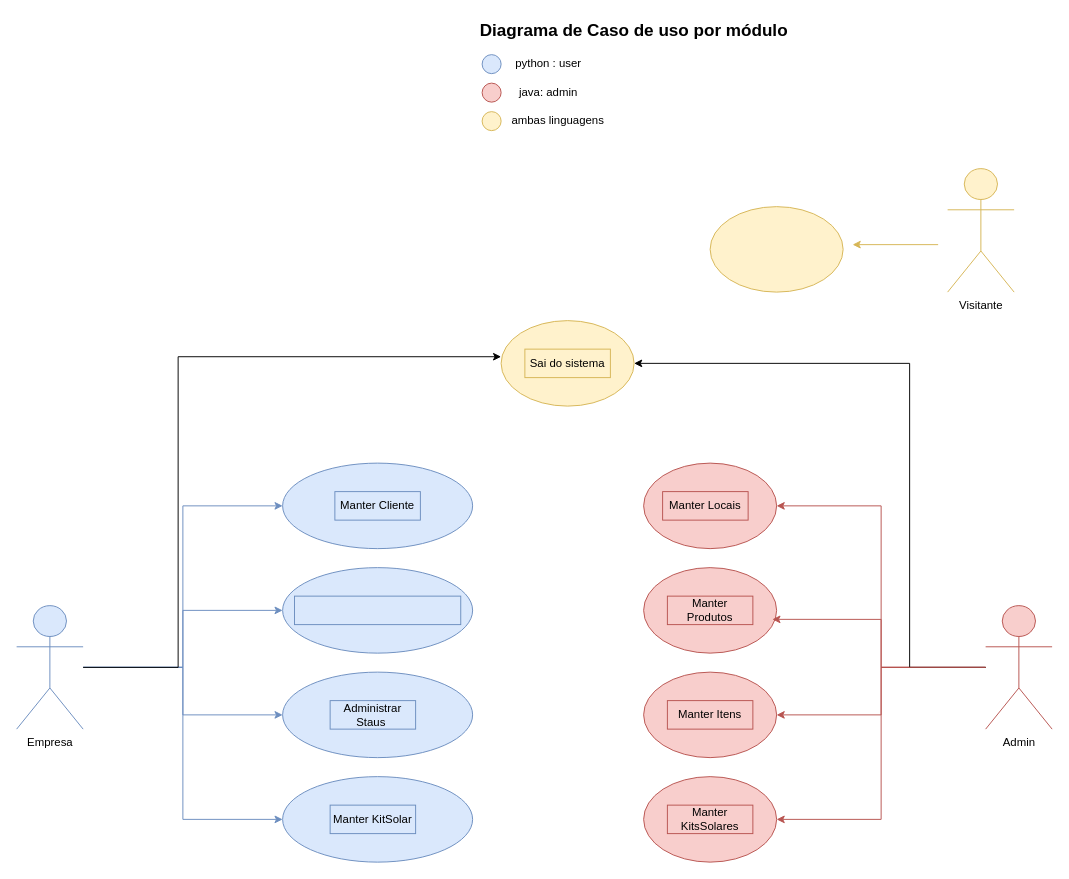
Some shapes in this 1069 by 879 pixel diagram are drawn without their labels. The centre of each missing label's shape, as x and y in pixels:
"Entrar na conta" belongs at [776,249].
"Realizar Dimensionamento" belongs at [377,610].
